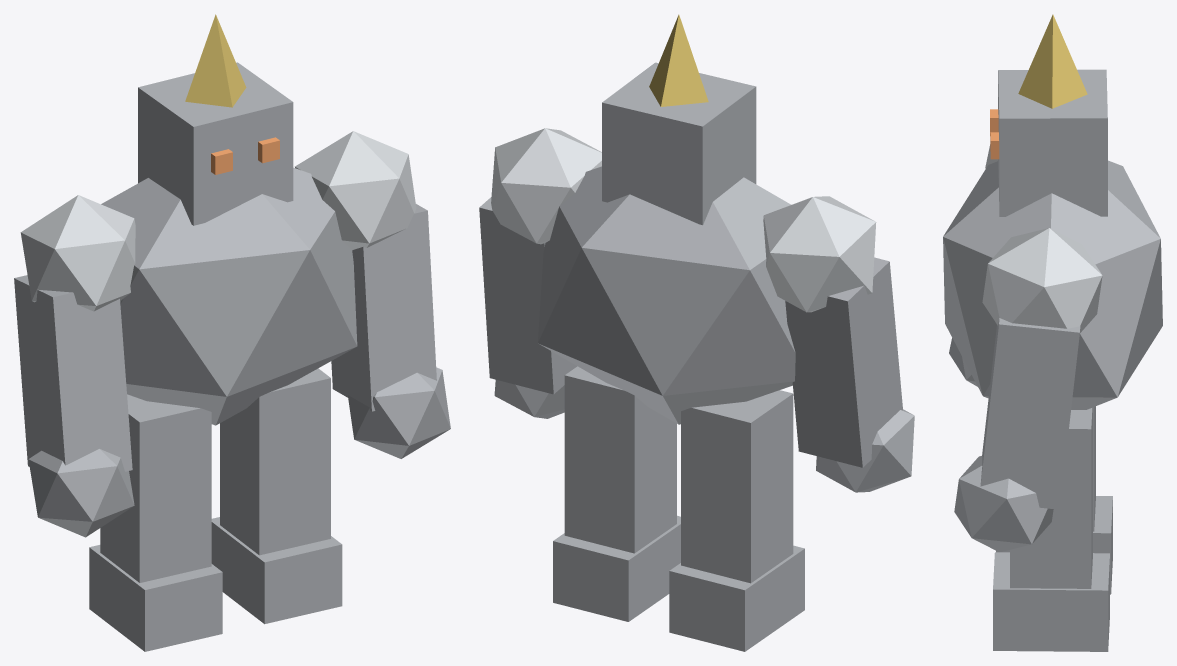
File: npcpose_golem_idle_08.glb
3 views of the same model, side by side, from view 1: azimuth 30°, elevation 25°; view 2: azimuth 150°, elevation 25°; view 3: azimuth 270°, elevation 25° (orthographic).
Parts seen in each view (by area): view 1: npcpose; view 2: npcpose; view 3: npcpose.
Part boxes in pixels (bbox=[...]): npcpose: bbox=[14, 14, 450, 651]; npcpose: bbox=[479, 14, 914, 651]; npcpose: bbox=[943, 14, 1162, 651].
Bounding box in the file's own units: 1.38 × 1.92 × 0.649.
